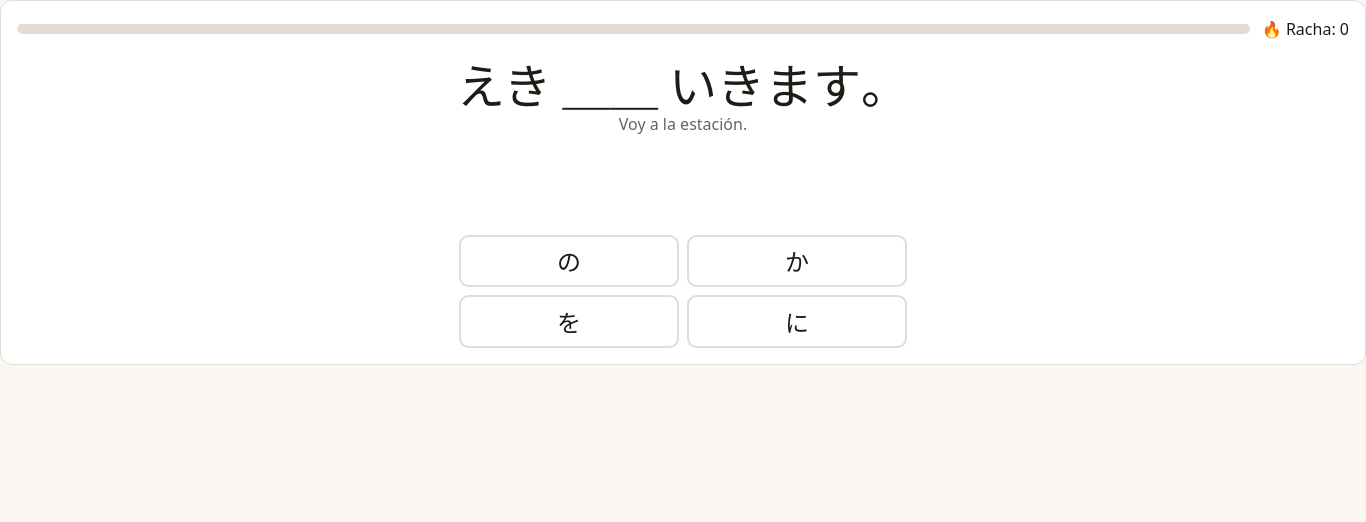
it: particles game › correct choice shows the sentence and the explanation, records the answer
Expected: the picture named "hueco" is shown, [562, 48, 658, 118]
Step 1. Click the button "に" → click(797, 322), box [687, 295, 907, 348]
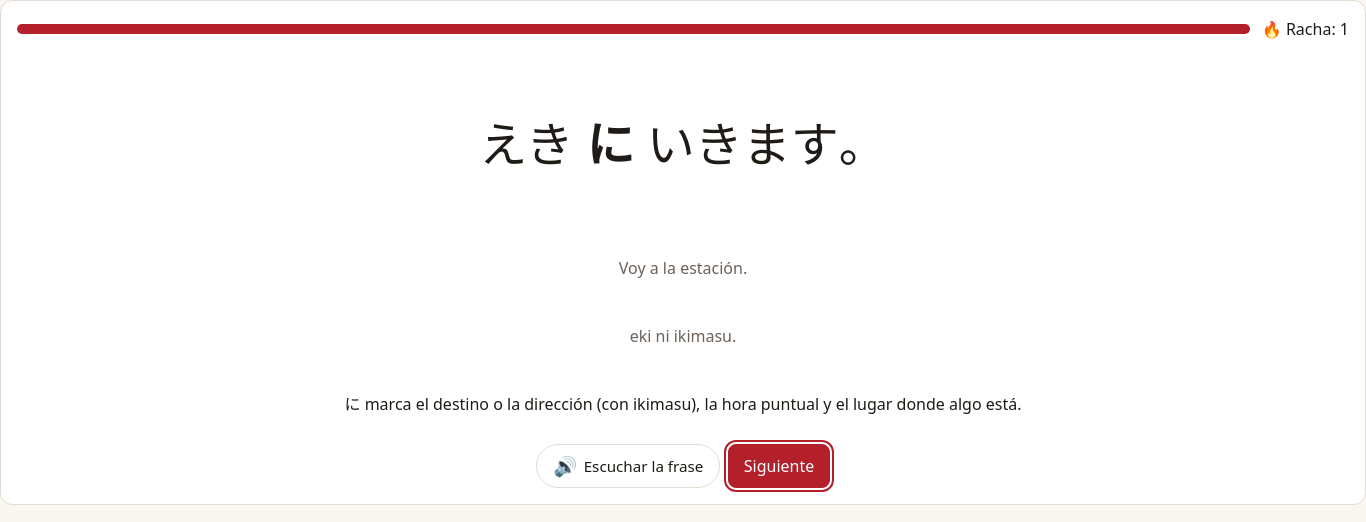
Expected: the message with test id "explanation" shows "に marca el destino o la dirección (con ikimasu), la hora puntual y el lugar donde algo está.", [344, 393, 1022, 415]
Expected: the element with test id "filled" reads "に", [586, 106, 634, 176]
